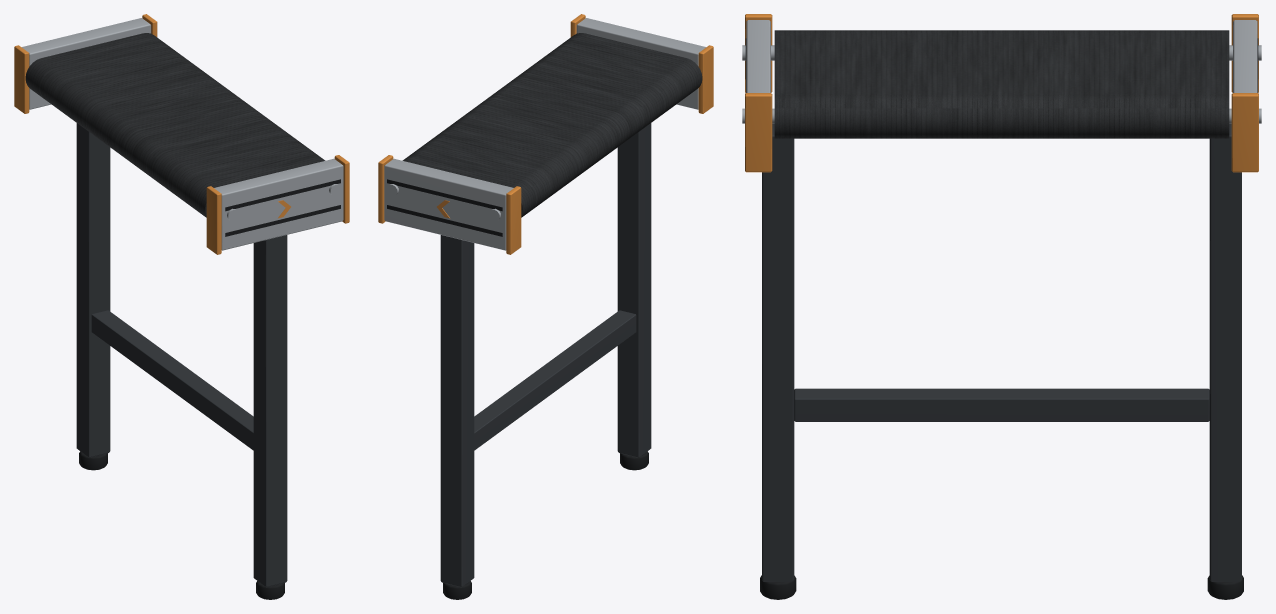
Rendered from Band01_030.glb.
3 renders of one model, left to right at view 1: azimuth 30°, elevation 25°; view 2: azimuth 150°, elevation 25°; view 3: azimuth 270°, elevation 25°, orthographic. The views are drawn at different scales.
Visible parts, largest first — view 1: Band01_030__SteelDark, Band01_030__BeltRubber, Band01_030__BareSteel, Band01_030__SafetyOrange, Band01_030__Black; view 2: Band01_030__SteelDark, Band01_030__BeltRubber, Band01_030__BareSteel, Band01_030__SafetyOrange, Band01_030__Black; view 3: Band01_030__BeltRubber, Band01_030__SteelDark, Band01_030__SafetyOrange, Band01_030__BareSteel, Band01_030__Black.
Boxes of the visible parts, x1,y1,x2,y2 form: Band01_030__SteelDark: (76, 123, 287, 587); Band01_030__BeltRubber: (25, 33, 325, 217); Band01_030__BareSteel: (21, 18, 343, 250); Band01_030__SafetyOrange: (14, 14, 349, 254); Band01_030__Black: (79, 179, 340, 599); Band01_030__SteelDark: (440, 123, 651, 587); Band01_030__BeltRubber: (402, 33, 702, 217); Band01_030__BareSteel: (384, 18, 706, 250); Band01_030__SafetyOrange: (378, 14, 713, 254); Band01_030__Black: (387, 179, 648, 599); Band01_030__BeltRubber: (774, 30, 1229, 138); Band01_030__SteelDark: (762, 123, 1241, 581); Band01_030__SafetyOrange: (745, 14, 1258, 172); Band01_030__BareSteel: (742, 20, 1261, 123); Band01_030__Black: (745, 38, 1258, 599).
Size of the model in its own units: 0.3 by 0.916 by 0.8.
5 materials, 1 textured.
